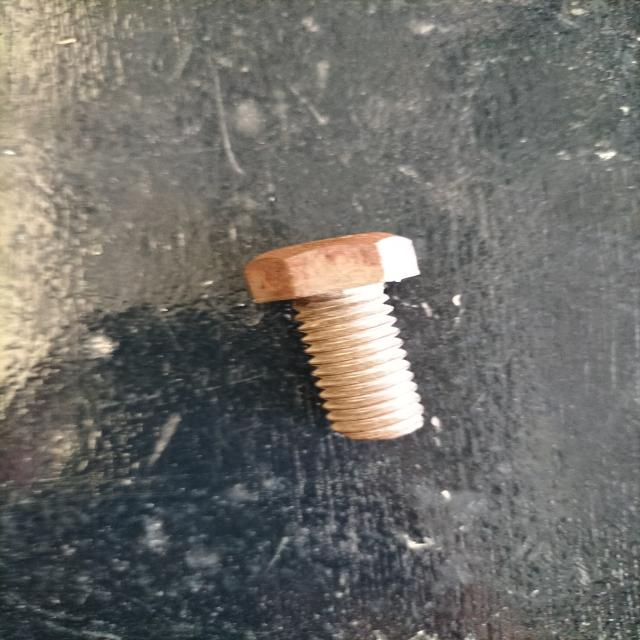bolt: (245, 231, 424, 438)
